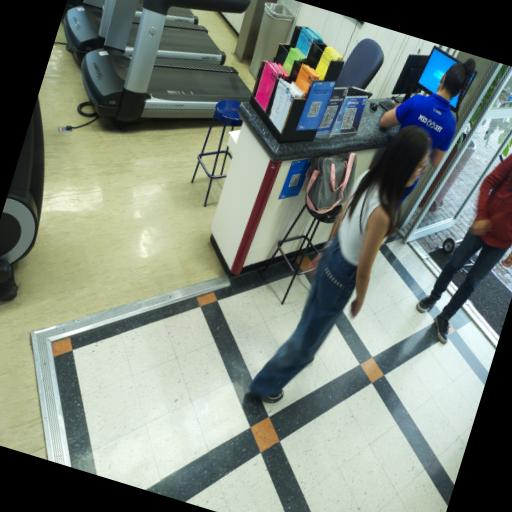person: (249, 126, 429, 402), (416, 154, 511, 343), (379, 58, 474, 167)
